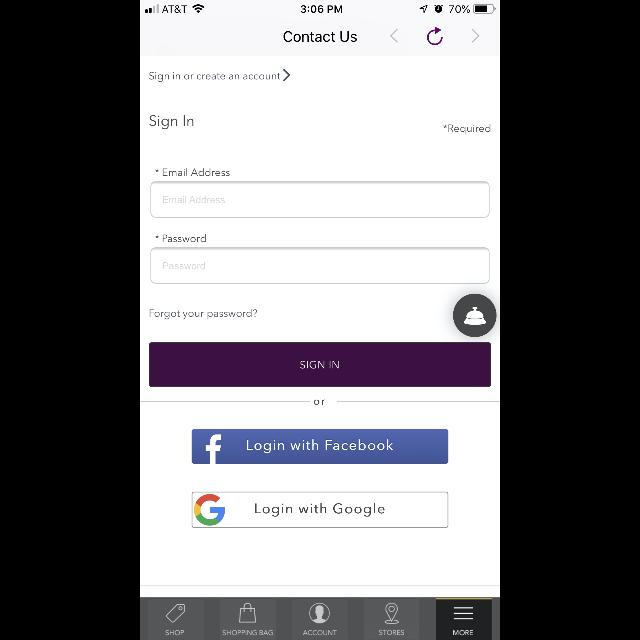icon: (310, 602, 330, 624), (384, 602, 400, 624), (167, 604, 186, 622), (240, 603, 256, 623), (453, 606, 473, 620), (428, 27, 442, 46), (390, 29, 398, 43), (472, 29, 480, 43), (284, 69, 290, 81)
image: (453, 293, 497, 337)
input: (150, 248, 490, 284), (150, 182, 490, 218)
text: (150, 72, 280, 82), (150, 308, 256, 320), (284, 32, 356, 42), (150, 115, 194, 129), (156, 168, 230, 176), (163, 196, 225, 204), (444, 125, 490, 135), (156, 234, 207, 242), (163, 262, 205, 270), (222, 630, 274, 636), (303, 630, 337, 636), (379, 629, 405, 635), (453, 629, 473, 635), (166, 629, 184, 635), (314, 400, 326, 404)
textbutton: (149, 342, 491, 388), (192, 492, 448, 528), (192, 429, 448, 463)
uppertaskbar: (140, 0, 500, 14)
